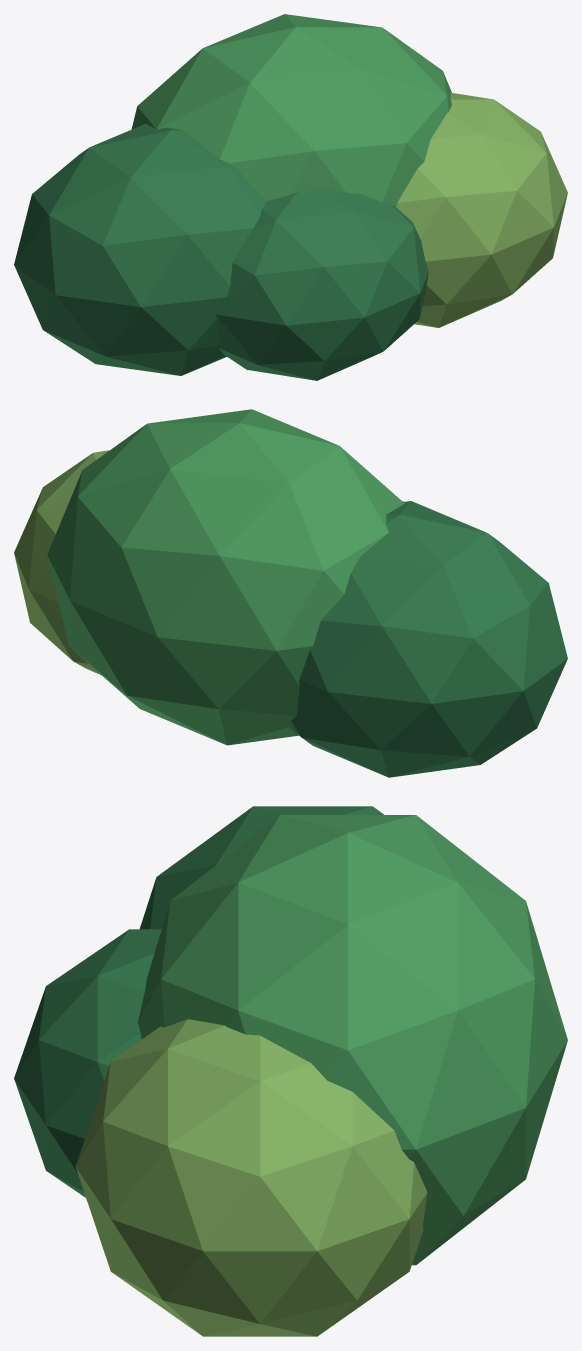
The model's file is flowering-bush.glb.
3 views of the same model, one above another, from view 1: azimuth 30°, elevation 25°; view 2: azimuth 150°, elevation 25°; view 3: azimuth 270°, elevation 25° (orthographic). The views are drawn at different scales.
Visible parts, largest first — view 1: Bush_Leaf_Cluster_00, Bush_Leaf_Cluster_01, Bush_Leaf_Cluster_03, Bush_Leaf_Cluster_02; view 2: Bush_Leaf_Cluster_01, Bush_Leaf_Cluster_00, Bush_Leaf_Cluster_02; view 3: Bush_Leaf_Cluster_01, Bush_Leaf_Cluster_02, Bush_Leaf_Cluster_03, Bush_Leaf_Cluster_00.
Boxes of the visible parts, left/top/right/bottom form: Bush_Leaf_Cluster_00: left=14, top=124, right=266, bottom=375; Bush_Leaf_Cluster_01: left=131, top=14, right=451, bottom=206; Bush_Leaf_Cluster_03: left=215, top=189, right=428, bottom=380; Bush_Leaf_Cluster_02: left=396, top=92, right=567, bottom=327; Bush_Leaf_Cluster_01: left=47, top=409, right=404, bottom=745; Bush_Leaf_Cluster_00: left=289, top=501, right=567, bottom=777; Bush_Leaf_Cluster_02: left=14, top=450, right=109, bottom=675; Bush_Leaf_Cluster_01: left=138, top=815, right=567, bottom=1265; Bush_Leaf_Cluster_02: left=75, top=1019, right=427, bottom=1336; Bush_Leaf_Cluster_03: left=14, top=929, right=161, bottom=1197; Bush_Leaf_Cluster_00: left=139, top=806, right=383, bottom=929.
Bounding box in the file's own units: 1.87 × 1.06 × 1.26.
